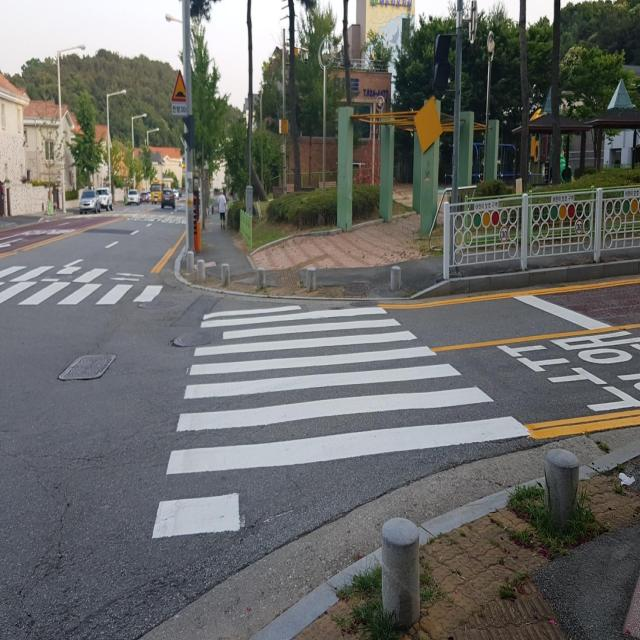횡단보도: (149, 300, 533, 543)
